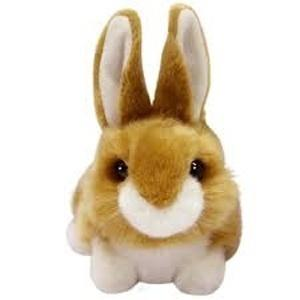rabbit: (65, 4, 243, 297)
